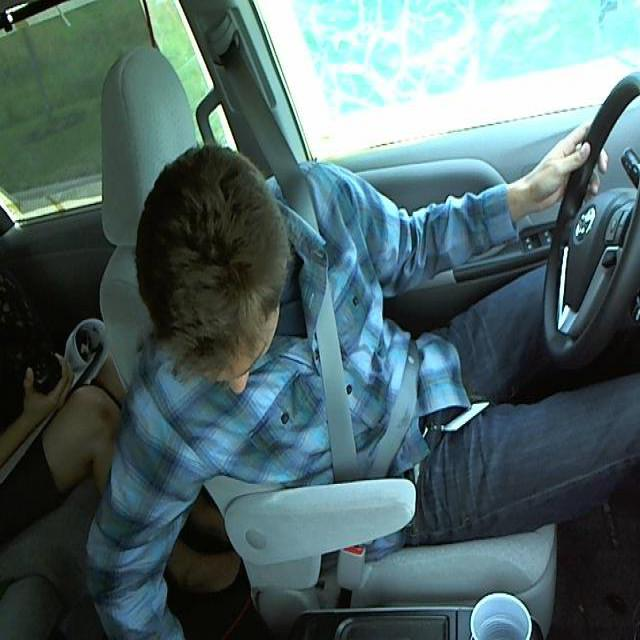seatbelt: (277, 188, 410, 480)
